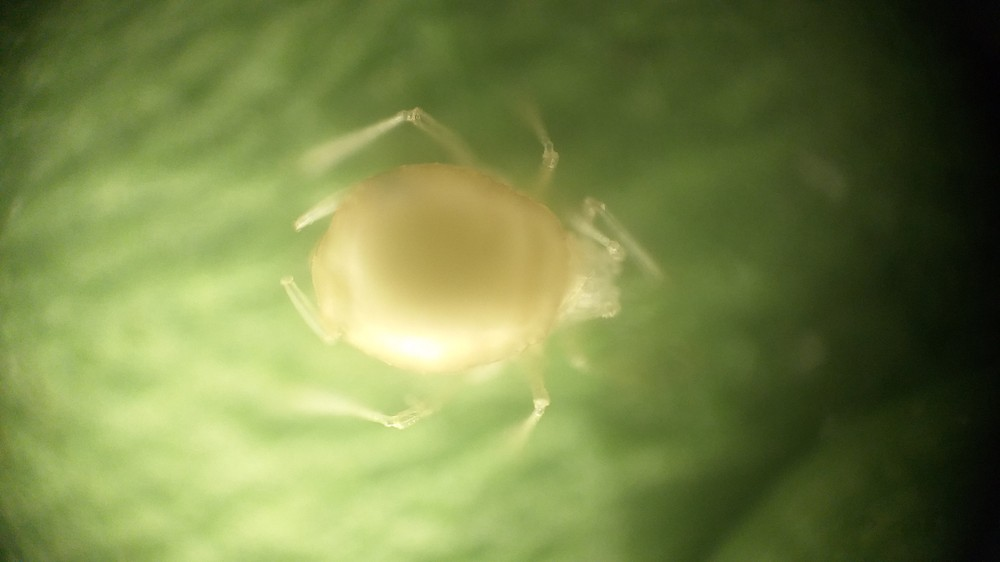Pulgon: (248, 79, 706, 504)
